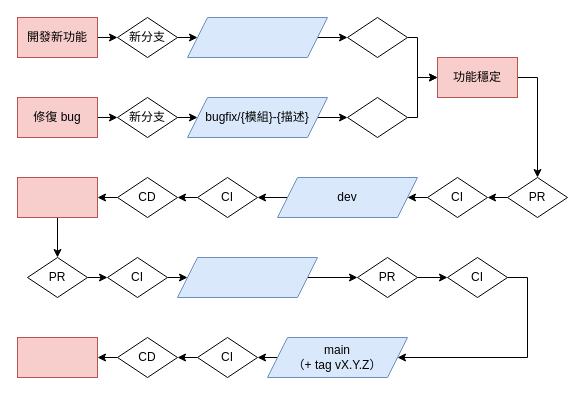
This 585x395 diagram has some shape labels left out. Each missing label, with the centre of its shape:
"feature/{模組}-{功能}" belongs at [257,37].
"release/vX.Y.Z" belongs at [247,277].
"Staging （預演環境）" belongs at [57,197].
"修復" belongs at [377,117].
"自動部署 Production" belongs at [57,357].
"開發" belongs at [377,37].
